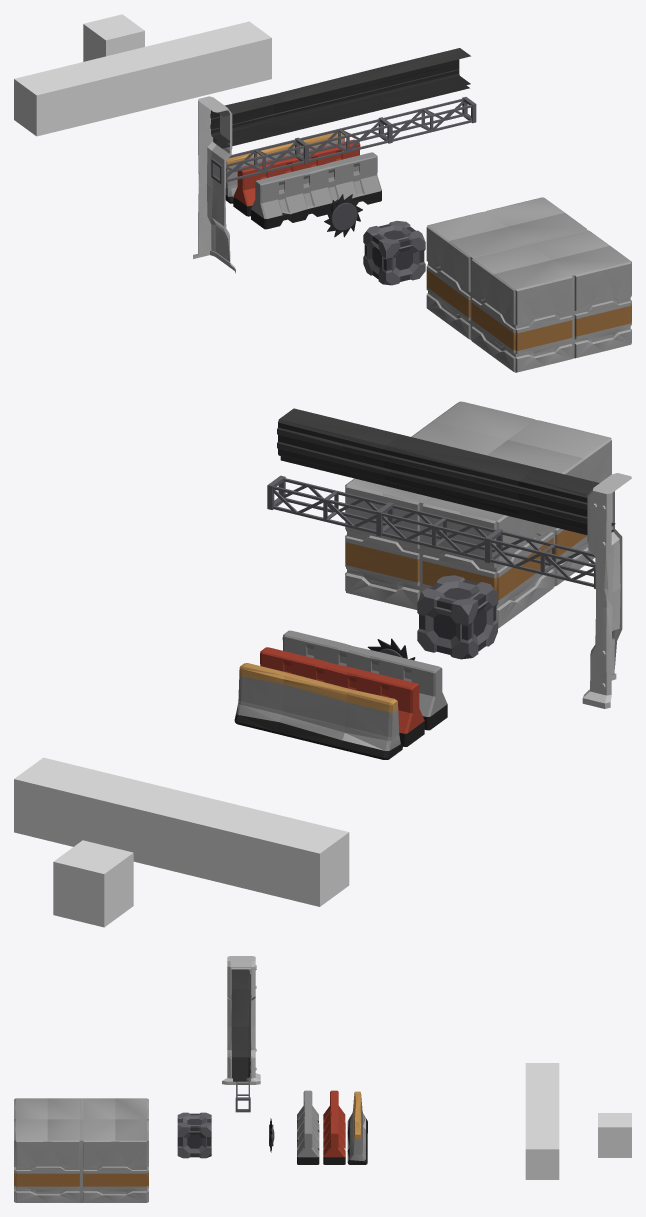
File: InfinityRunnerEnvironmentTraps.fbx
The picture shows the model from 3 angles, top to bottom: view 1: azimuth 30°, elevation 25°; view 2: azimuth 150°, elevation 25°; view 3: azimuth 270°, elevation 25°; orthographic projection. The views are drawn at different scales.
Parts seen in each view (by area): view 1: TrapBlock, Unity_6_Meter, JumpBlock, Barrier_Plastic_Gray, Beams, Pillar, TrapCube, Unity_1_Meter, Barrier_Plastic_Red, Barrier_Stone, Saw; view 2: Unity_6_Meter, TrapBlock, JumpBlock, Barrier_Stone, Beams, Pillar, Unity_1_Meter, TrapCube, Barrier_Plastic_Gray, Barrier_Plastic_Red; view 3: TrapBlock, Unity_6_Meter, JumpBlock, Pillar, TrapCube, Unity_1_Meter, Barrier_Plastic_Gray, Barrier_Plastic_Red, Barrier_Stone.
Boxes of the visible parts, <box> form: TrapBlock: <box>426,197,631,372</box>; Unity_6_Meter: <box>14,21,271,136</box>; JumpBlock: <box>210,48,470,148</box>; Barrier_Plastic_Gray: <box>251,152,381,229</box>; Beams: <box>211,97,476,184</box>; Pillar: <box>193,96,235,273</box>; TrapCube: <box>363,220,425,285</box>; Unity_1_Meter: <box>83,14,144,61</box>; Barrier_Plastic_Red: <box>233,139,360,216</box>; Barrier_Stone: <box>225,133,345,203</box>; Saw: <box>324,194,362,237</box>; Unity_6_Meter: <box>14,757,349,906</box>; TrapBlock: <box>345,401,611,628</box>; JumpBlock: <box>277,408,615,534</box>; Barrier_Stone: <box>234,663,402,759</box>; Beams: <box>267,475,595,588</box>; Pillar: <box>582,473,631,708</box>; Unity_1_Meter: <box>53,840,133,927</box>; TrapCube: <box>417,575,497,659</box>; Barrier_Plastic_Gray: <box>282,630,447,730</box>; Barrier_Plastic_Red: <box>260,647,424,746</box>; TrapBlock: <box>14,1098,148,1202</box>; Unity_6_Meter: <box>525,1063,559,1179</box>; JumpBlock: <box>231,969,250,1081</box>; Pillar: <box>222,956,260,1084</box>; TrapCube: <box>177,1112,211,1158</box>; Unity_1_Meter: <box>598,1113,631,1157</box>; Barrier_Plastic_Gray: <box>297,1090,319,1164</box>; Barrier_Plastic_Red: <box>323,1090,345,1164</box>; Barrier_Stone: <box>347,1091,367,1164</box>.
Size of the model in its own units: 709 by 475 by 1819.
